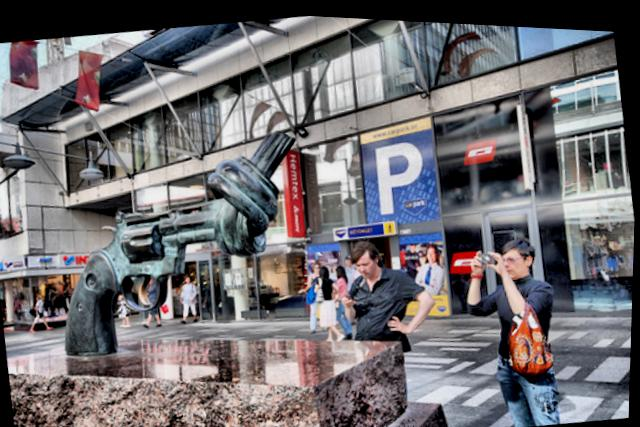pistol: (48, 194, 233, 361)
